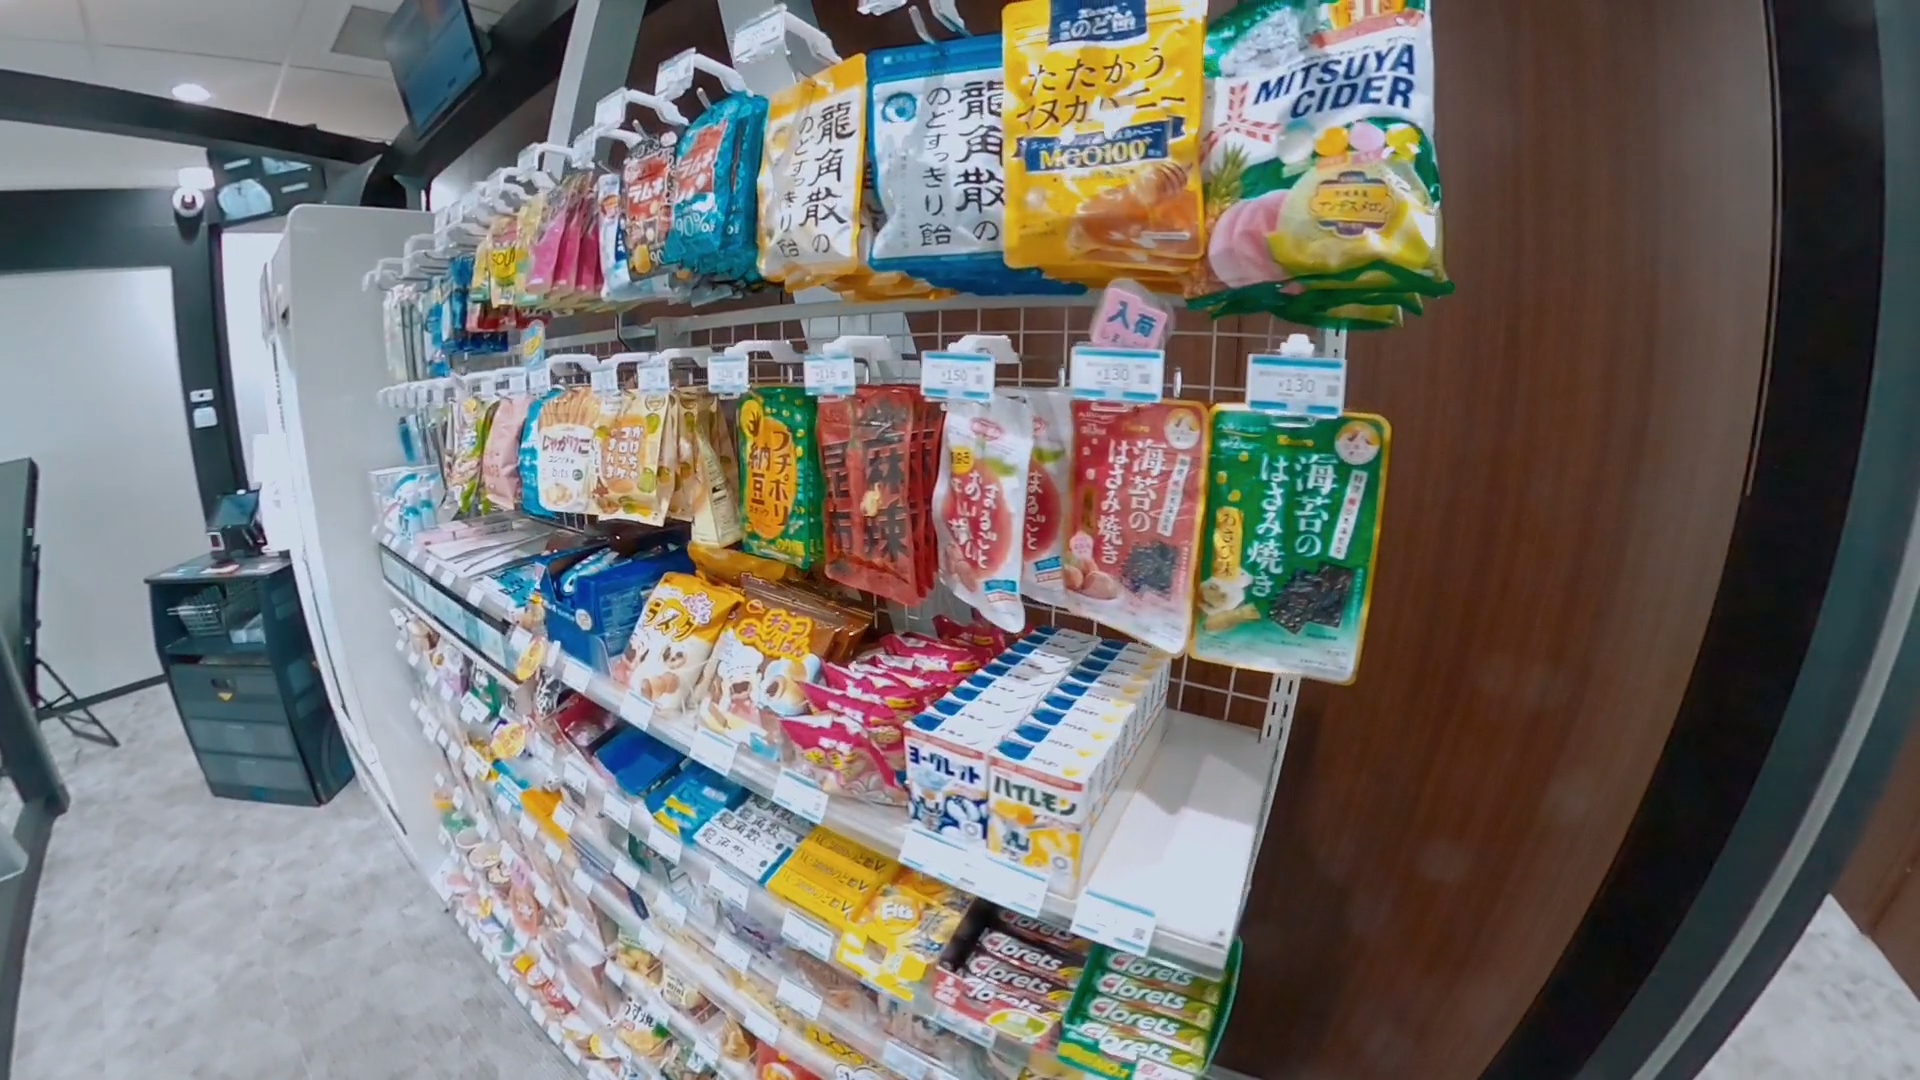NorinoHasamiyaki: (1192, 405, 1387, 687)
